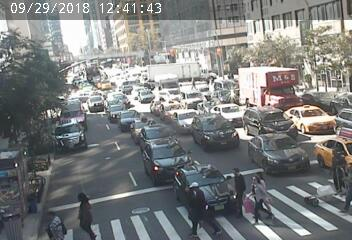car: (236, 66, 294, 106), (184, 170, 235, 205), (141, 140, 187, 170), (253, 133, 298, 163), (291, 103, 334, 134), (199, 119, 240, 146), (246, 107, 283, 130), (59, 106, 97, 127), (52, 126, 82, 148), (321, 140, 352, 161), (157, 78, 182, 97), (137, 126, 170, 140), (171, 114, 201, 129), (115, 110, 138, 126), (223, 106, 247, 120), (136, 90, 158, 102), (161, 106, 183, 117), (131, 120, 150, 131), (105, 95, 121, 107), (104, 104, 121, 114), (88, 96, 103, 105)
